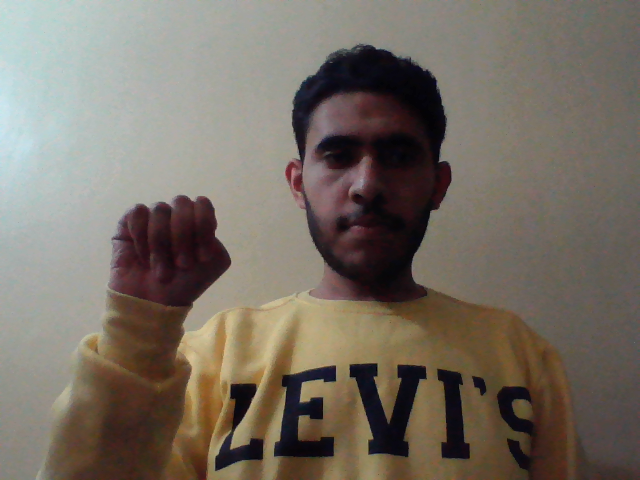M: (107, 187, 231, 323)
